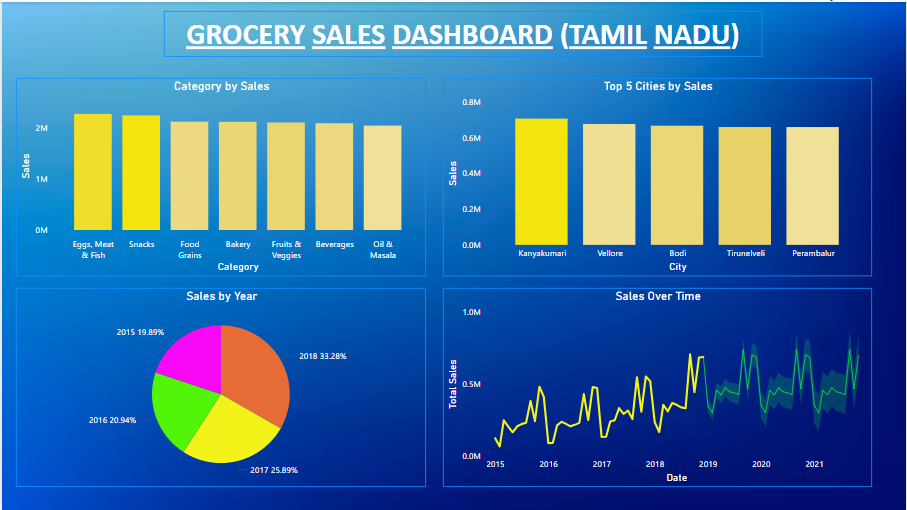

The dashboard page shown, as its layout file describes it:
{"tool":"powerbi","page":{"name":"GROCERY SALES DASHBOARD (TAMIL NADU)","canvas":[1280,720],"ordinal":0},"visuals":[{"type":"columnChart","title":"Category by Sales","fields":{"Category":["Supermart Grocery Sales - Retai.Category"],"Y":["Sum(Supermart Grocery Sales - Retai.Sales)"]},"box":[20.2,107.5,581.2,280.5],"z":0},{"type":"pieChart","title":"Sales by Year","fields":{"Y":["Sum(Supermart Grocery Sales - Retai.Sales)"],"Category":["Supermart Grocery Sales - Retai.Year"]},"box":[20.2,404.8,581.2,282.2],"z":1000},{"type":"columnChart","title":"Top 5 Cities by Sales","fields":{"Y":["Sum(Supermart Grocery Sales - Retai.Sales)"],"Category":["Supermart Grocery Sales - Retai.City"]},"box":[624.9,107.5,608.1,280.5],"z":2000},{"type":"lineChart","title":"Sales Over Time","fields":{"Y":["Sum(Supermart Grocery Sales - Retai.Sales)"],"Category":["Supermart Grocery Sales - Retai.Order Date.Variation.Date Hierarchy.Year","Supermart Grocery Sales - Retai.Order Date.Variation.Date Hierarchy.Quarter","Supermart Grocery Sales - Retai.Order Date.Variation.Date Hierarchy.Month"]},"box":[625,405.4,608,282],"z":3000},{"type":"textbox","box":[229.6,12.8,847.6,65.2],"z":4000}]}

Visuals, with their boxes in screenshot pixels (x1, y1, x2, y2), scaled from the page's 1280x720 canvas onto the 907x510 screenshot:
"Category by Sales" columnChart: (x1=14, y1=76, x2=426, y2=275)
"Sales by Year" pieChart: (x1=14, y1=287, x2=426, y2=487)
"Top 5 Cities by Sales" columnChart: (x1=443, y1=76, x2=874, y2=275)
"Sales Over Time" lineChart: (x1=443, y1=287, x2=874, y2=487)
textbox: (x1=163, y1=9, x2=763, y2=55)
